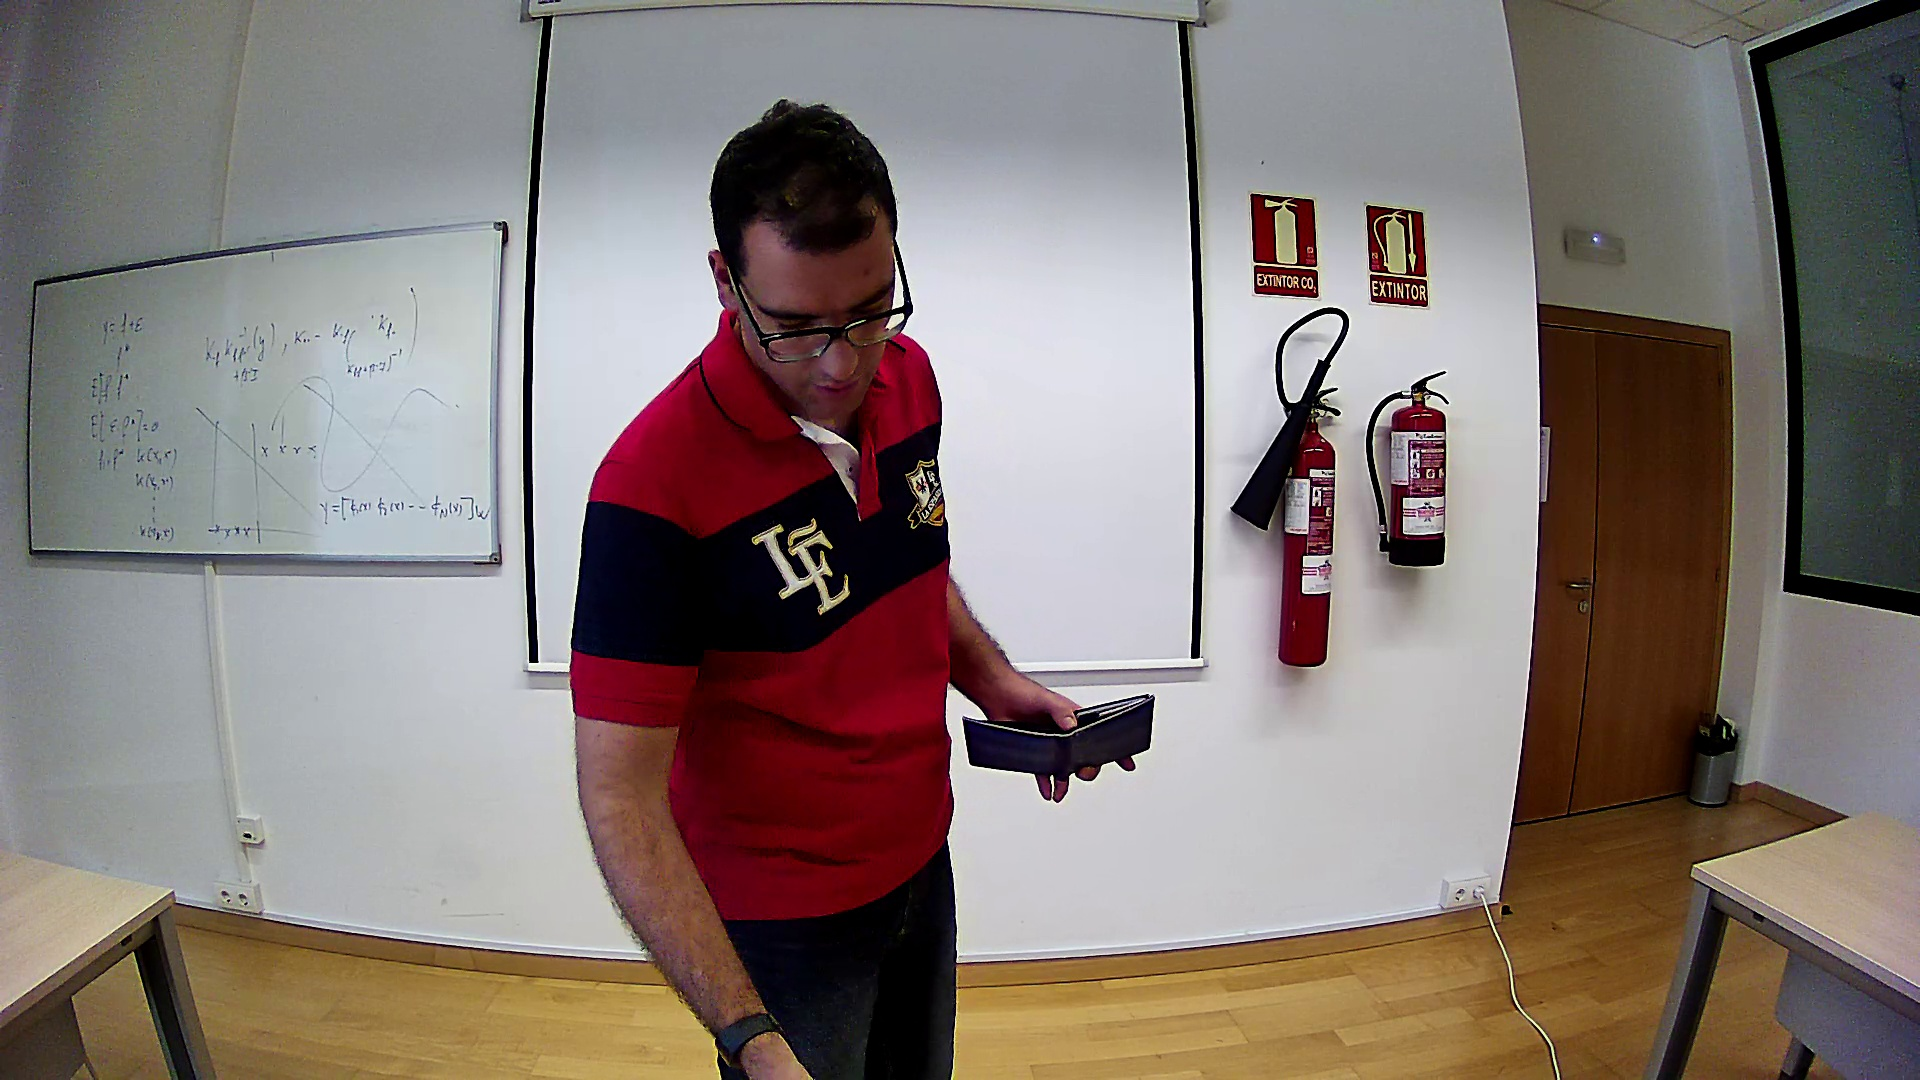monedero: (961, 694, 1156, 775)
